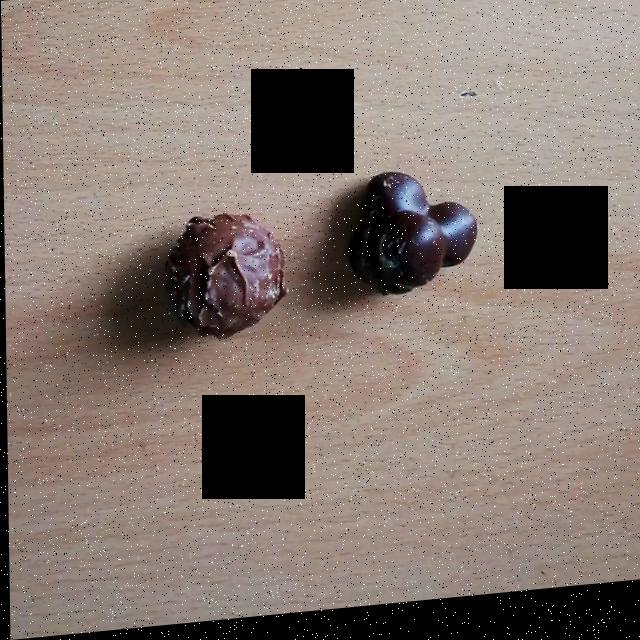milk-chocolate-with-hazelnuts: (343, 189, 473, 301)
praline: (164, 218, 283, 341)
